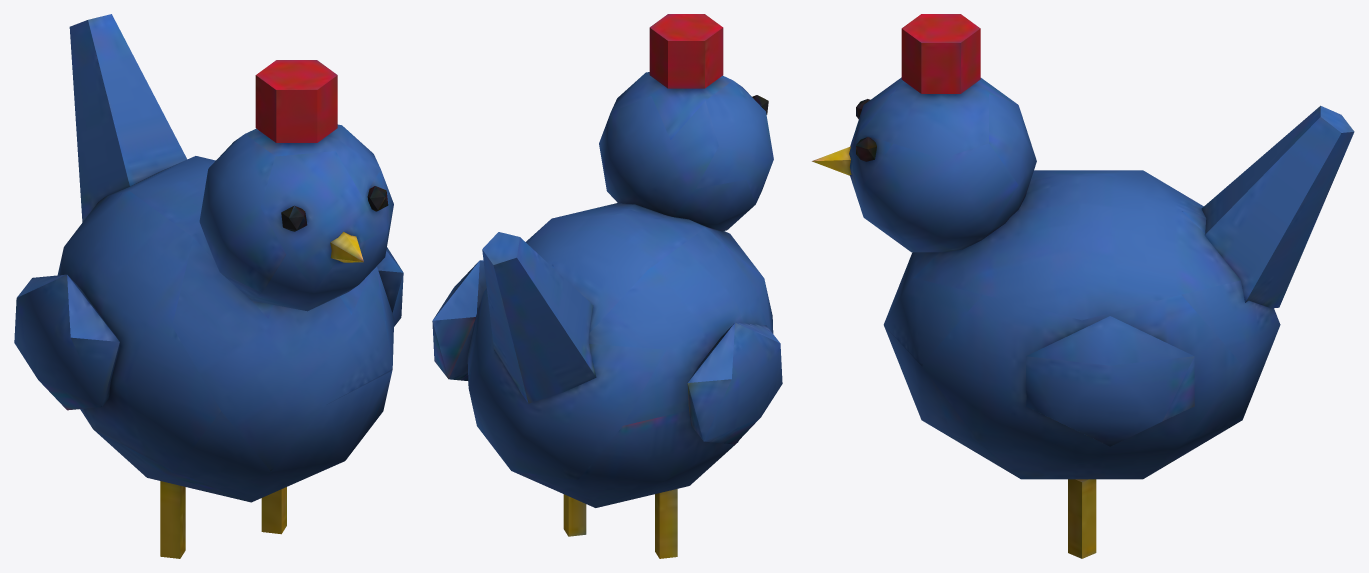
Rendered from gallina_azul.glb.
The picture shows the model from 3 angles, left to right: view 1: azimuth 30°, elevation 25°; view 2: azimuth 150°, elevation 25°; view 3: azimuth 270°, elevation 25°; orthographic projection. The views are drawn at different scales.
Visible parts, largest first — view 1: gallina_azul; view 2: gallina_azul; view 3: gallina_azul.
Boxes of the visible parts, box(x1,y1,x2,y2) form: gallina_azul: box(14, 14, 403, 558); gallina_azul: box(432, 14, 782, 558); gallina_azul: box(812, 14, 1354, 558).
Size of the model in its own units: 0.8768 by 1.27 by 1.25.
Materials: 1 (1 with a texture image).
